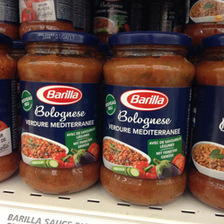tomato_sauce: (100, 31, 195, 206), (17, 30, 104, 195)
